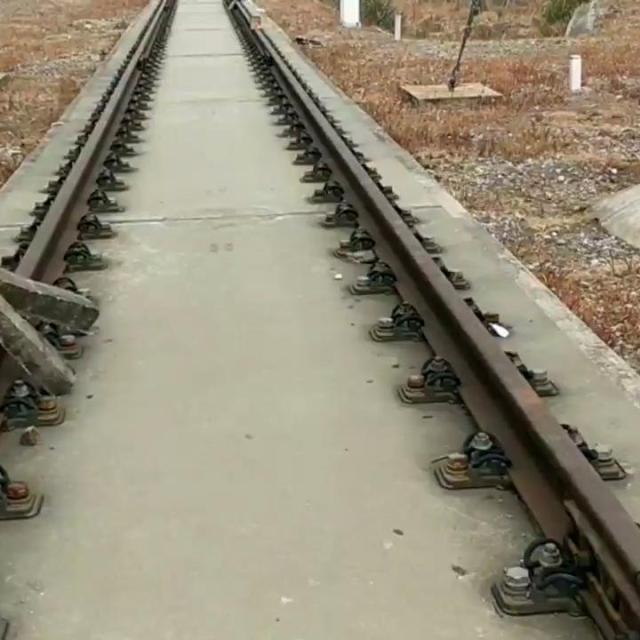danger: (2, 266, 105, 430)
rail: (224, 0, 640, 591)
